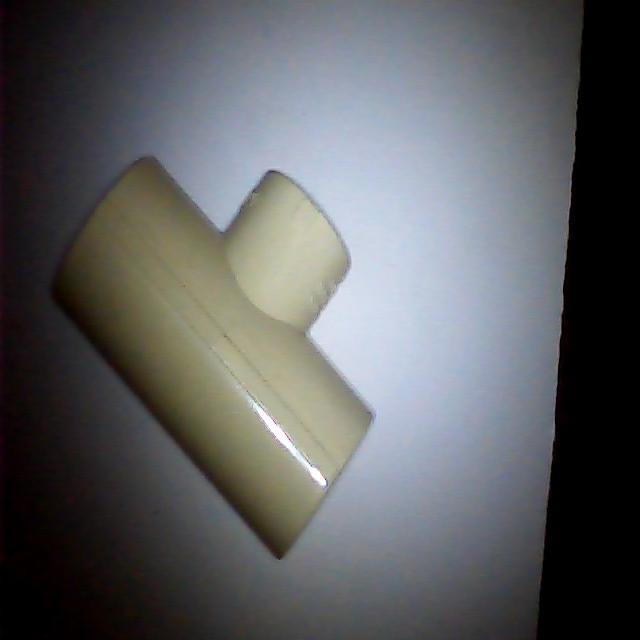T Joint: (53, 157, 375, 561)
